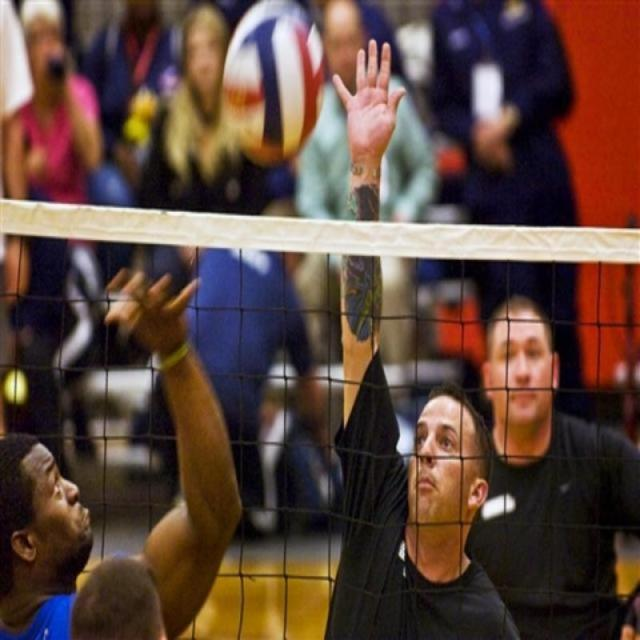volleyball: (221, 0, 325, 169)
